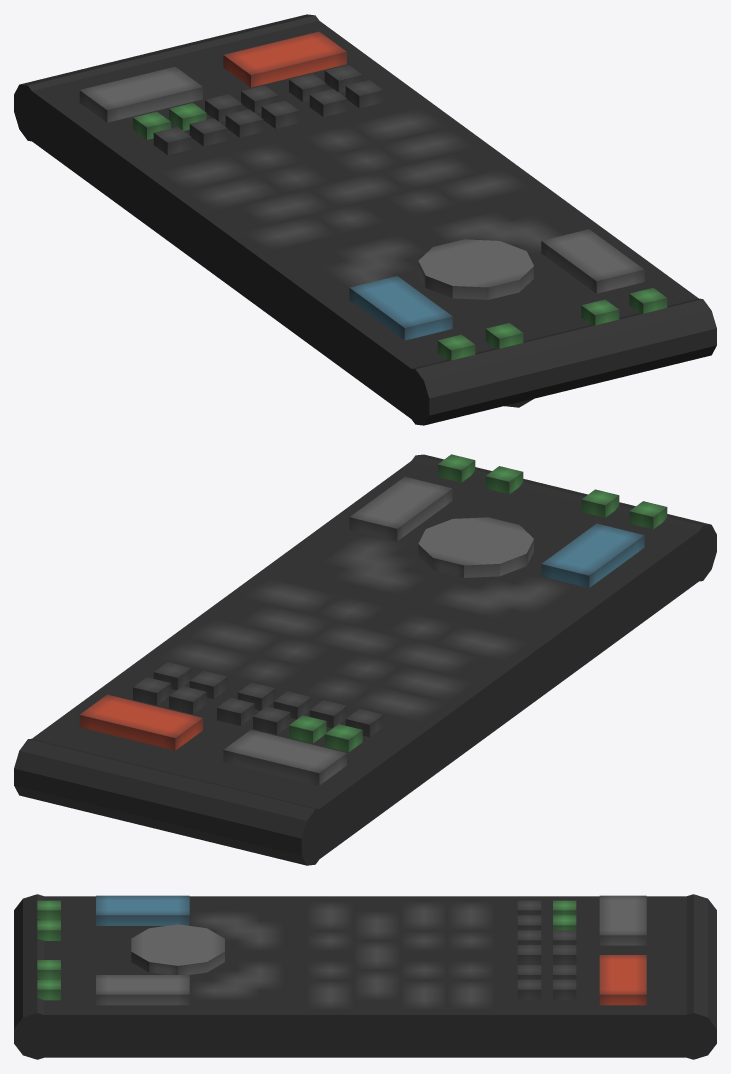
The model's file is remote.fbx.
The picture shows the model from 3 angles, top to bottom: view 1: azimuth 30°, elevation 25°; view 2: azimuth 150°, elevation 25°; view 3: azimuth 270°, elevation 25°; orthographic projection. The views are drawn at different scales.
Visible parts, largest first — view 1: cube, cylinder, cylinder_2, cube_1, cube_2, cube_15, cube_16, cylinder_1, cube_6, cube_9, cube_14, cube_5 (+12 smaller); view 2: cube, cylinder_1, cylinder_2, cube_1, cube_2, cube_15, cube_16, cylinder, cube_3, cube_18, cube_17, cube_19 (+12 smaller); view 3: cube, cylinder_1, cylinder, cylinder_2, cube_16, cube_15, cube_1, cube_2, cube_14, cube_12, cube_19, cube_10 (+12 smaller).
Boxes of the visible parts, x1,y1,x2,y2 form: cube: (27, 21, 698, 421); cylinder: (411, 298, 716, 425); cylinder_2: (418, 239, 533, 299); cube_1: (79, 66, 202, 122); cube_2: (223, 31, 346, 87); cube_15: (349, 276, 452, 340); cube_16: (541, 229, 644, 293); cylinder_1: (14, 14, 319, 141); cube_6: (189, 118, 227, 146); cube_9: (225, 109, 263, 137); cube_14: (345, 80, 383, 108); cube_5: (153, 127, 191, 155); cube: (32, 461, 703, 861); cylinder_1: (14, 738, 318, 865); cylinder_2: (418, 517, 533, 577); cube_1: (223, 729, 346, 785); cube_2: (79, 694, 202, 750); cube_15: (541, 523, 644, 587); cube_16: (349, 477, 452, 541); cylinder: (411, 454, 716, 581); cube_3: (324, 724, 362, 752); cube_18: (581, 489, 619, 517); cube_17: (629, 501, 667, 529); cube_19: (437, 454, 475, 482); cube: (37, 896, 693, 1057); cylinder_1: (686, 894, 716, 1059); cylinder: (14, 894, 44, 1059); cylinder_2: (131, 924, 224, 974); cube_16: (96, 975, 189, 1005); cube_15: (96, 895, 189, 925); cube_1: (599, 895, 646, 945); cube_2: (599, 955, 646, 1005); cube_14: (517, 979, 541, 1000); cube_12: (553, 979, 576, 1000); cube_19: (37, 979, 60, 1000); cube_10: (517, 945, 541, 964).
Bounding box in the file's own units: 37.51 × 14.06 × 93.75.
Materials: 1 (1 with a texture image).
